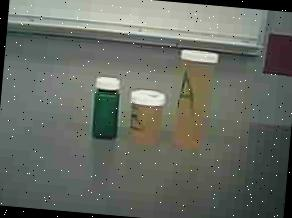Bottle A: (168, 44, 230, 154)
Bottle B: (123, 85, 169, 149)
Bottle C: (78, 71, 128, 146)
